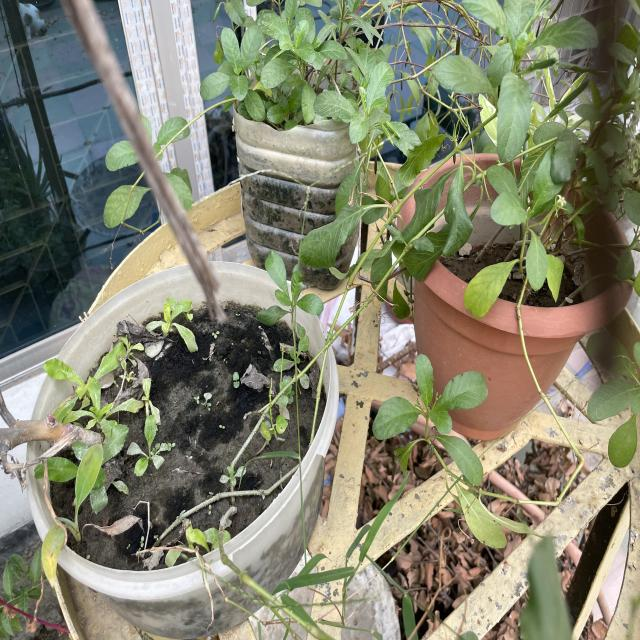Breeding Place: (36, 264, 330, 604), (416, 145, 613, 442), (237, 29, 371, 268)
